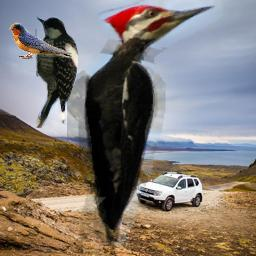Swallow: (8, 22, 72, 61)
Woodpecker: (67, 0, 223, 246), (35, 16, 79, 128)
